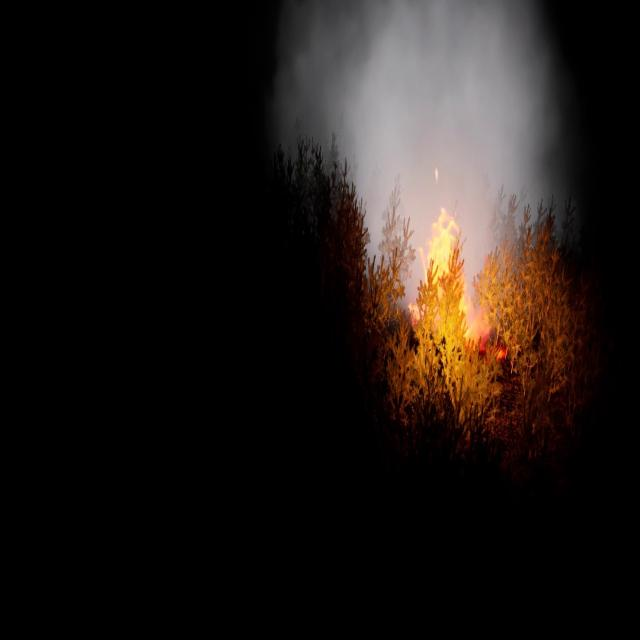fire: (412, 204, 478, 341)
smoke: (270, 0, 583, 327)
